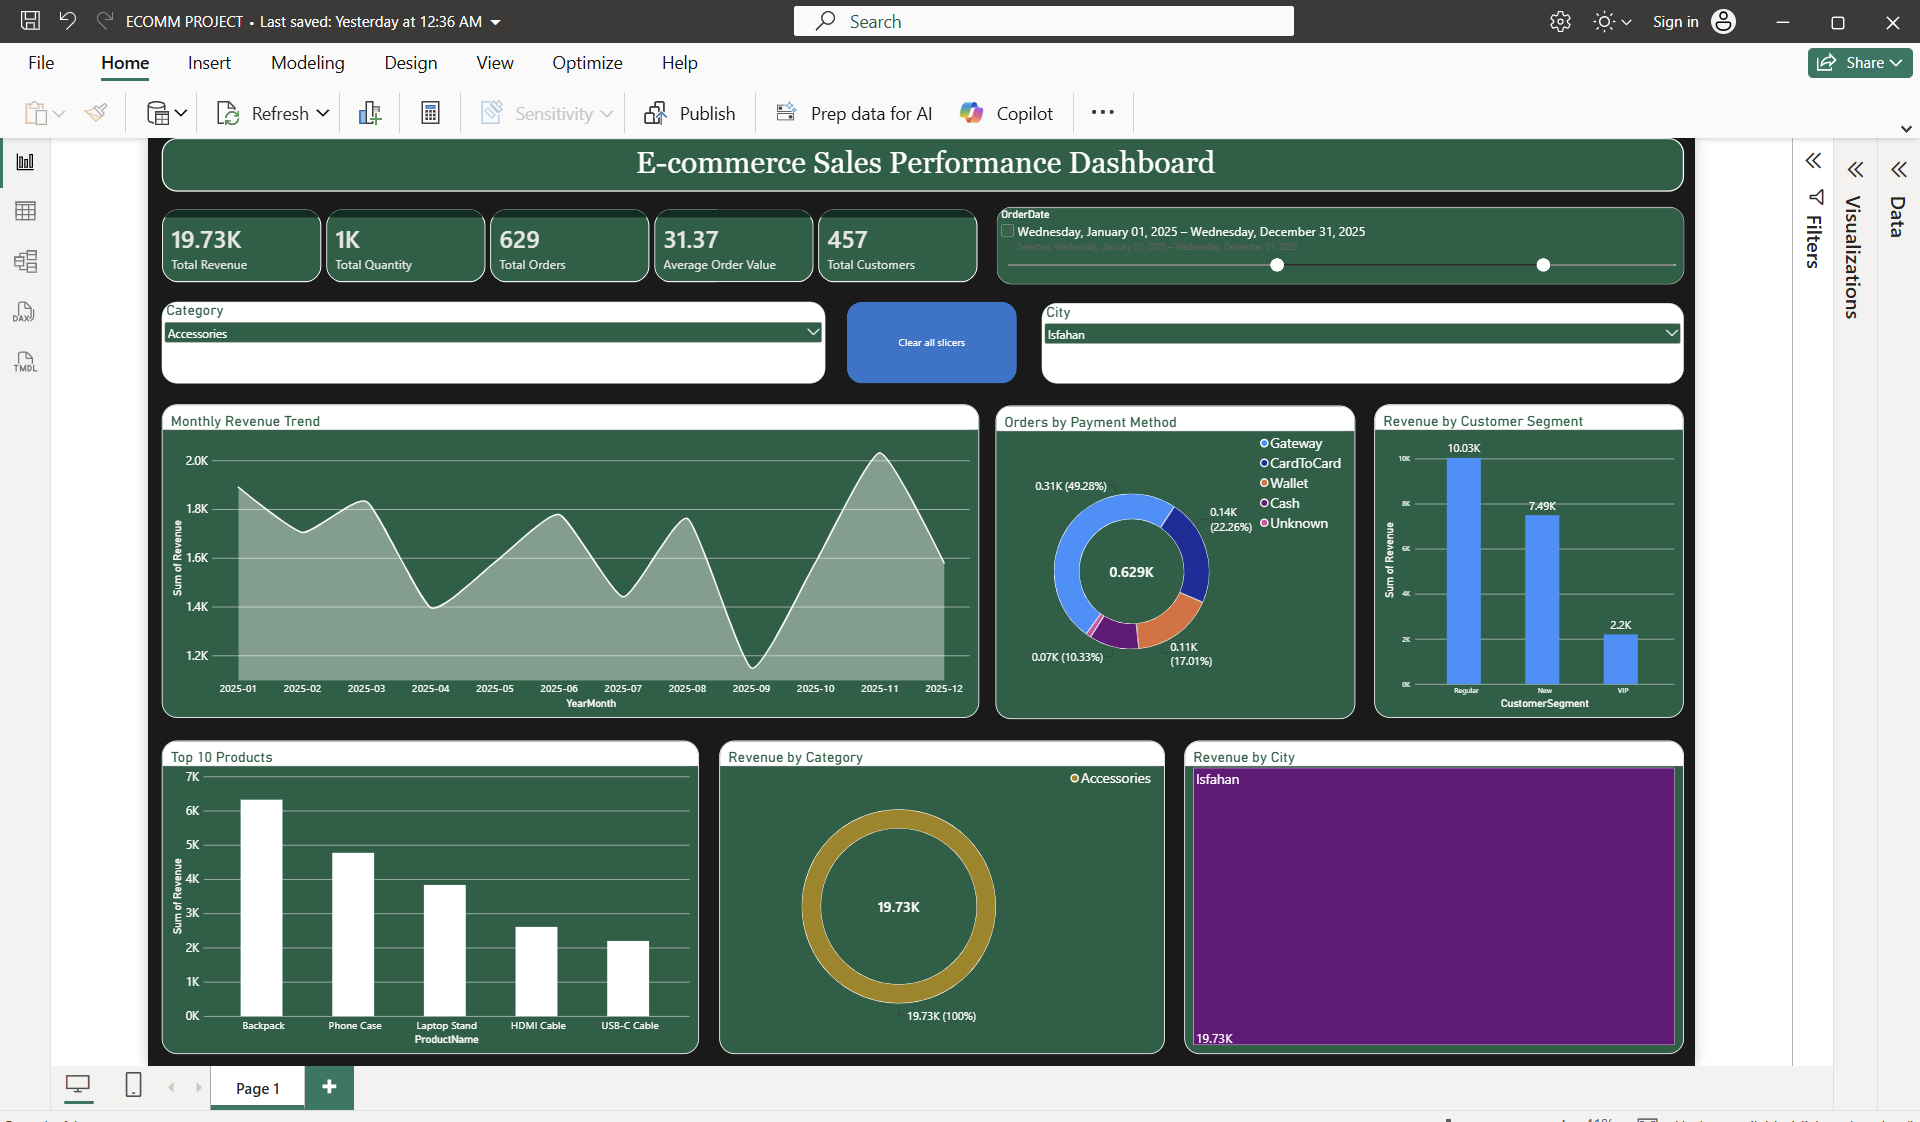

What the dashboard file says about the page in this screenshot:
{"tool":"powerbi","page":{"name":"Page 1","canvas":[3000,1800],"ordinal":0},"visuals":[{"type":"cardVisual","fields":{"Data":["Sum(final_data.Revenue)","Sum(final_data.Quantity)","Count(final_data.OrderID)","final_data.AOV","Count(final_data.CustomerID)"]},"box":[26,137.7,1584.9,142.9],"z":0},{"type":"textbox","box":[0,351.5,1610,150],"z":1000},{"type":"textbox","box":[26,0,2951.5,103.9],"z":2000},{"type":"lineChart","title":"Monthly Revenue Trend","fields":{"Category":["final_data.YearMonth"],"Y":["Sum(final_data.Revenue)"]},"box":[26,517,1584.9,608],"z":3000},{"type":"clusteredColumnChart","title":"Top 10 Products","fields":{"Category":["final_data.ProductName"],"Y":["Sum(final_data.Revenue)"]},"box":[26,1169.2,1041.9,608],"z":4000},{"type":"donutChart","title":"Revenue by Category","fields":{"Category":["final_data.Category"],"Y":["Sum(final_data.Revenue)"]},"box":[1106.5,1169.2,863.9,607.7],"z":5000},{"type":"actionButton","box":[1353.6,317,330,158.5],"z":6000},{"type":"treemap","title":"Revenue by City","fields":{"Group":["final_data0.City"],"Values":["Sum(final_data.Revenue)"]},"box":[2008.4,1169.2,969.1,608],"z":7000},{"type":"donutChart","title":"Orders by Payment Method","fields":{"Category":["final_data0.PaymentMethod"],"Y":["CountNonNull(final_data0.OrderID)"]},"box":[1643.4,517.8,697.7,607.7],"z":8000},{"type":"clusteredColumnChart","title":"Revenue by Customer Segment","fields":{"Category":["final_data0.CustomerSegment"],"Y":["Sum(final_data.Revenue)"]},"box":[2377.3,517,600.2,608],"z":9000},{"type":"slicer","fields":{"Values":["final_data0.OrderDate"]},"box":[1644.6,132.5,1332.9,150.7],"z":10000},{"type":"slicer","fields":{"Values":["final_data0.Category"]},"box":[26,317,1286.1,158.5],"z":11000},{"type":"slicer","fields":{"Values":["final_data0.City"]},"box":[1733,319.6,1244.5,155.9],"z":12000}]}

Visuals, with their boxes on the page's 3000x1800 design canvas (x1, y1, x2, y2). These are canvas units, not pixel positions in the 1920x1122 screenshot, which may show the page scaled, cropped or inside an application window:
cardVisual - Sum(final_data.Revenue) x Sum(final_data.Quantity): box=[26, 138, 1611, 281]
textbox: box=[0, 352, 1610, 502]
textbox: box=[26, 0, 2978, 104]
"Monthly Revenue Trend" lineChart: box=[26, 517, 1611, 1125]
"Top 10 Products" clusteredColumnChart: box=[26, 1169, 1068, 1777]
"Revenue by Category" donutChart: box=[1106, 1169, 1970, 1777]
actionButton: box=[1354, 317, 1684, 476]
"Revenue by City" treemap: box=[2008, 1169, 2978, 1777]
"Orders by Payment Method" donutChart: box=[1643, 518, 2341, 1126]
"Revenue by Customer Segment" clusteredColumnChart: box=[2377, 517, 2978, 1125]
slicer - final_data0.OrderDate: box=[1645, 132, 2978, 283]
slicer - final_data0.Category: box=[26, 317, 1312, 476]
slicer - final_data0.City: box=[1733, 320, 2978, 476]
